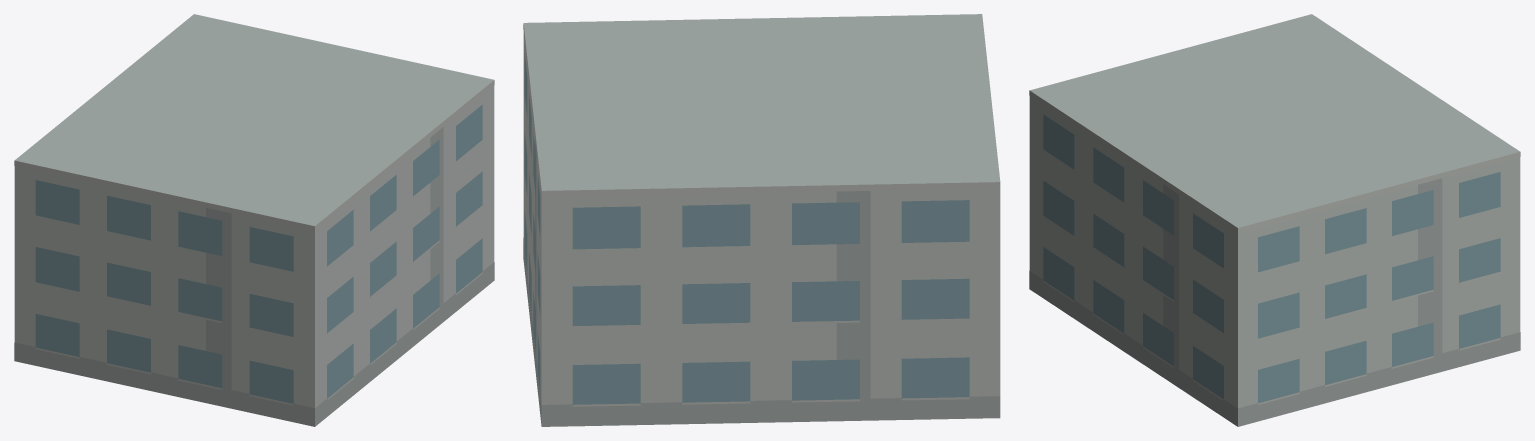
File: residential-ca321b19-89d1-40cd-a95b-ed27e47d0b76.glb
3 renders of one model, left to right at view 1: azimuth 30°, elevation 25°; view 2: azimuth 150°, elevation 25°; view 3: azimuth 270°, elevation 25°, orthographic. The views are drawn at different scales.
Visible parts, largest first — view 1: residential-ca321b19-89d1-40cd-a95b-ed27e47d0b76.tmp; view 2: residential-ca321b19-89d1-40cd-a95b-ed27e47d0b76.tmp; view 3: residential-ca321b19-89d1-40cd-a95b-ed27e47d0b76.tmp.
Boxes of the visible parts, x1,y1,x2,y2 form: residential-ca321b19-89d1-40cd-a95b-ed27e47d0b76.tmp: (14,14,494,426); residential-ca321b19-89d1-40cd-a95b-ed27e47d0b76.tmp: (523,14,1000,426); residential-ca321b19-89d1-40cd-a95b-ed27e47d0b76.tmp: (1029,14,1520,426).
Size of the model in its own units: 21.13 by 9.15 by 20.48.
